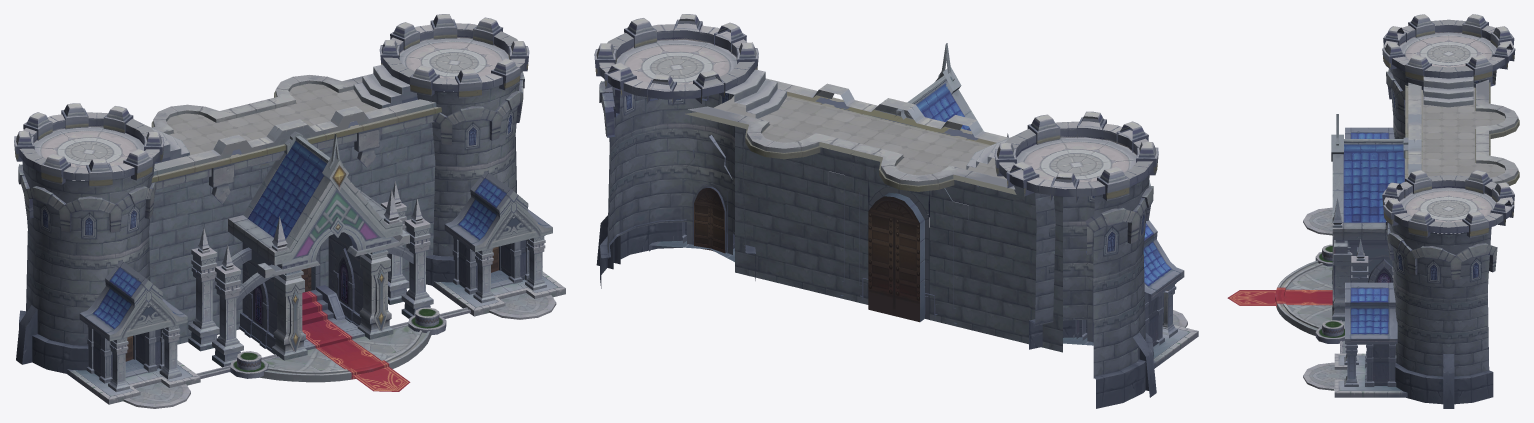
The model's file is zhuchengjianzhu_5.FBX.
3 renders of one model, left to right at view 1: azimuth 30°, elevation 25°; view 2: azimuth 150°, elevation 25°; view 3: azimuth 270°, elevation 25°, orthographic. The views are drawn at different scales.
Parts seen in each view (by area): view 1: zhucheng_chengdian, zhucheng_cdm; view 2: zhucheng_chengdian, zhucheng_cdm; view 3: zhucheng_chengdian, zhucheng_cdm.
Part boxes in pixels (left/top/right/bottom): zhucheng_chengdian: left=14, top=14, right=565, bottom=408; zhucheng_cdm: left=167, top=83, right=378, bottom=155; zhucheng_chengdian: left=594, top=14, right=1198, bottom=408; zhucheng_cdm: left=713, top=95, right=1006, bottom=179; zhucheng_chengdian: left=1227, top=14, right=1519, bottom=408; zhucheng_cdm: left=1422, top=87, right=1505, bottom=177.
Bounding box in the file's own units: 1097 × 632 × 447.
